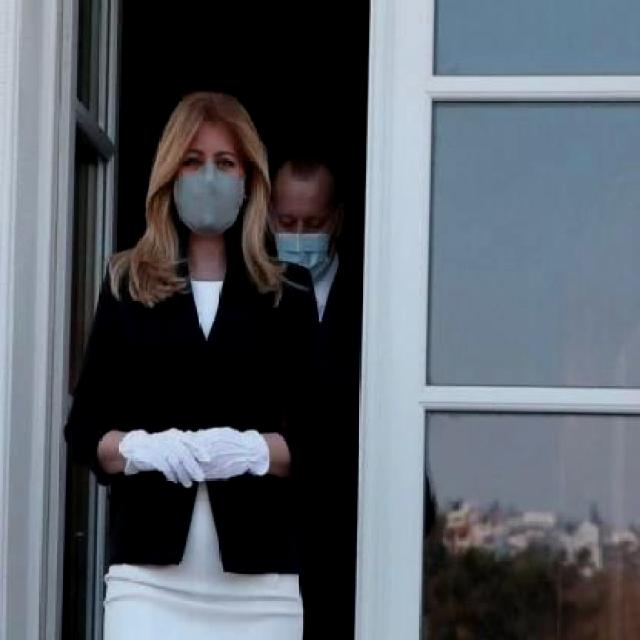face_mask: (172, 147, 245, 230), (272, 194, 337, 275)
hand_glove: (131, 422, 209, 489), (192, 425, 250, 480)
head_nohelmet: (166, 91, 251, 155), (271, 151, 335, 197)
person: (68, 74, 343, 640)
